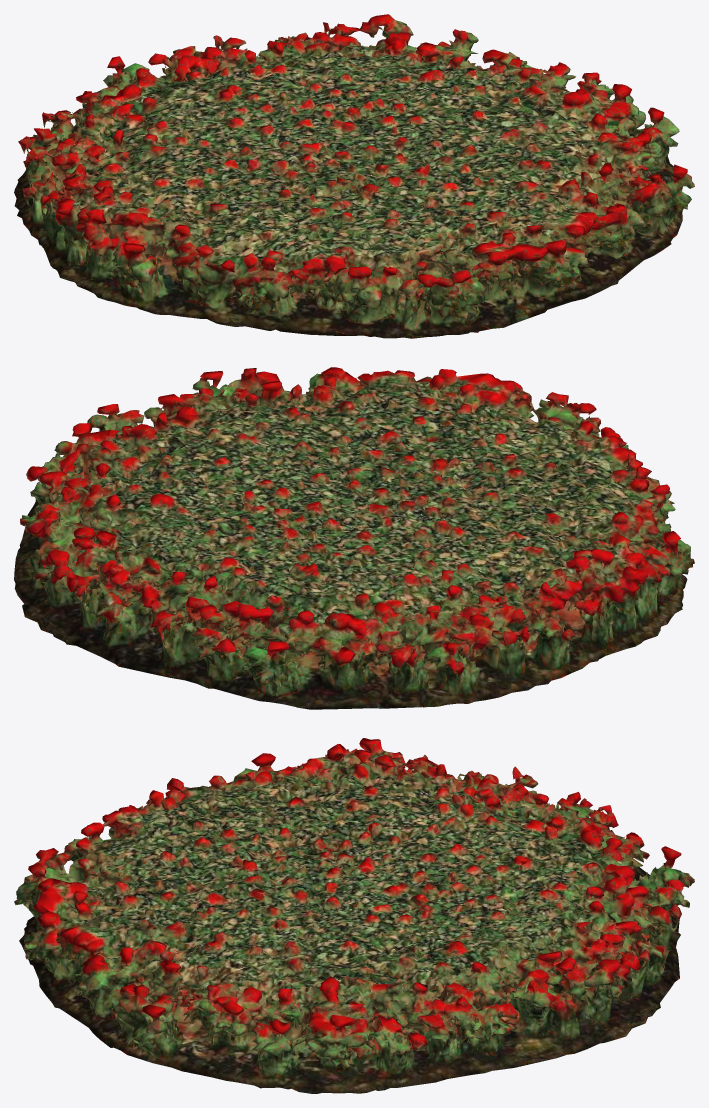
The model's file is flowerbed_a.glb.
3 renders of one model, top to bottom at view 1: azimuth 30°, elevation 25°; view 2: azimuth 150°, elevation 25°; view 3: azimuth 270°, elevation 25°, orthographic. The views are drawn at different scales.
Visible parts, largest first — view 1: Mesh_0; view 2: Mesh_0; view 3: Mesh_0.
Boxes of the visible parts, x1,y1,x2,y2 form: Mesh_0: (14, 14, 694, 338); Mesh_0: (14, 367, 694, 709); Mesh_0: (14, 738, 694, 1093).
Bounding box in the file's own units: 1.9 × 0.2304 × 1.86.
1 material, 1 textured.
